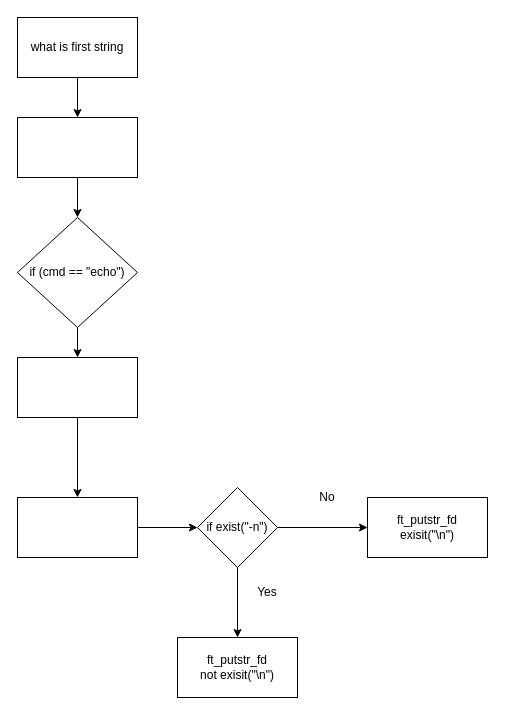
This 505x715 diagram has some shape labels left out. The centre of each missing label's shape, as x and y in pixels:
check_flag("-n"): (x=77, y=527)
cmd recognize: (x=77, y=147)
ft_echo.c: (x=77, y=387)
